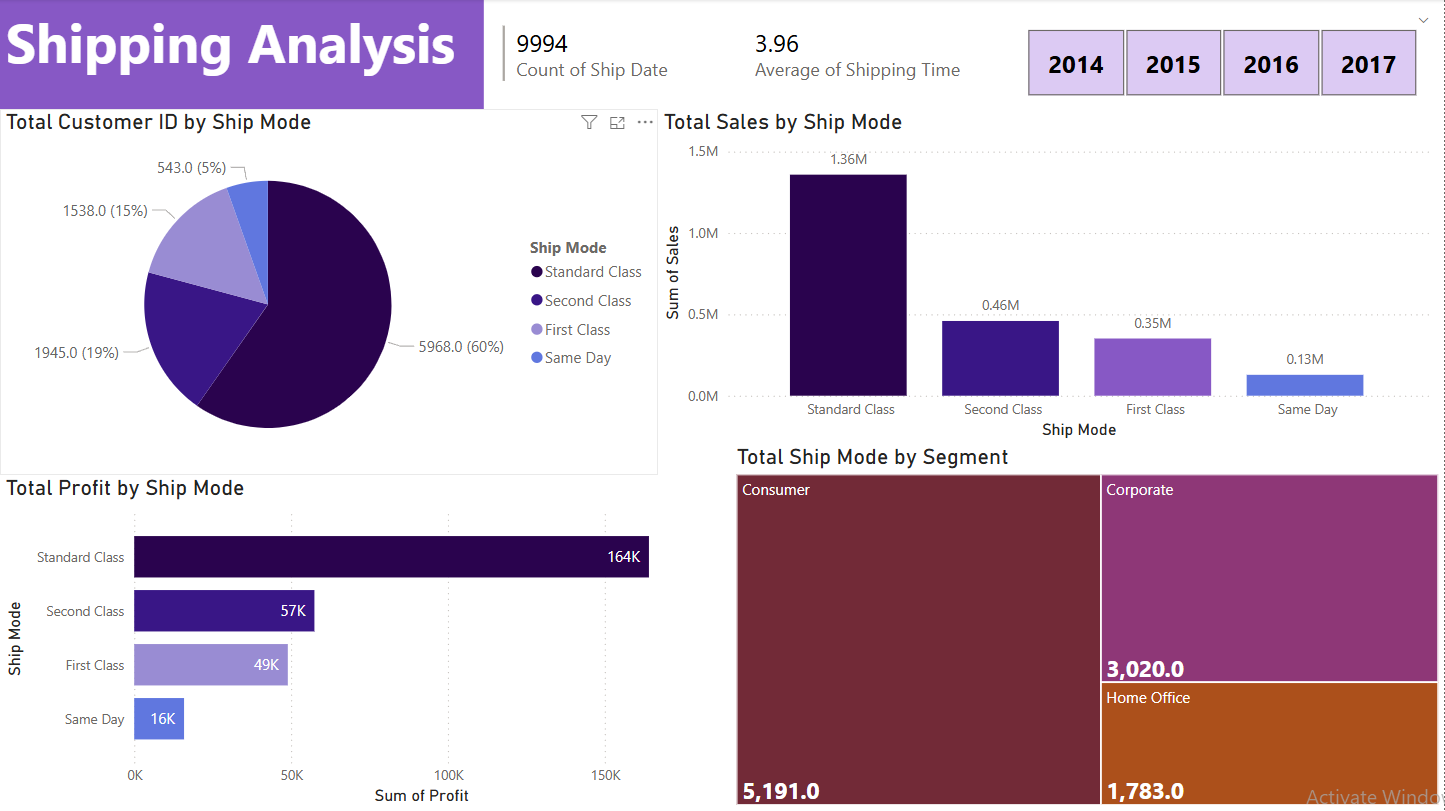

This screenshot's page, from the dashboard's own definition file:
{"tool":"powerbi","page":{"name":"Shipping Analysis","canvas":[1280,720],"ordinal":4},"visuals":[{"type":"textbox","box":[0,0,429.3,97.9],"z":0},{"type":"pieChart","title":"Total Customer ID by Ship Mode","fields":{"Category":["DATASuperstore1.Ship Mode"],"Y":["CountNonNull(DATASuperstore1.Customer ID)"]},"box":[0,97.9,583.1,324.6],"z":1000},{"type":"barChart","title":"Total Profit by Ship Mode","fields":{"Category":["DATASuperstore1.Ship Mode"],"Y":["Sum(DATASuperstore1.Profit)"]},"box":[0,422.5,648,297.2],"z":2000},{"type":"columnChart","title":"Total Sales by Ship Mode","fields":{"Category":["DATASuperstore1.Ship Mode"],"Y":["Sum(DATASuperstore1.Sales)"]},"box":[583.1,97.9,689,297.2],"z":3000},{"type":"multiRowCard","fields":{"Values":["DATASuperstore1.Ship Date","Avg(DATASuperstore1.Shipping Time)"]},"box":[440.7,18.2,445.3,74],"z":4000},{"type":"treemap","title":"Total Ship Mode by Segment","fields":{"Group":["DATASuperstore1.Segment"],"Values":["CountNonNull(DATASuperstore1.Ship Mode)"]},"box":[648,395,632,325],"z":5000},{"type":"slicer","fields":{"Values":["DATASuperstore1.Order Date.Variation.Date Hierarchy.Year"]},"box":[886,12.5,394,79.7],"z":6000}]}

Visuals, with their boxes in screenshot pixels (x1, y1, x2, y2), scaled from the page's 1280x720 canvas onto the 1445x811 screenshot:
textbox: {"left": 0, "top": 0, "right": 485, "bottom": 110}
"Total Customer ID by Ship Mode" pieChart: {"left": 0, "top": 110, "right": 658, "bottom": 476}
"Total Profit by Ship Mode" barChart: {"left": 0, "top": 476, "right": 732, "bottom": 810}
"Total Sales by Ship Mode" columnChart: {"left": 658, "top": 110, "right": 1436, "bottom": 445}
multiRowCard - DATASuperstore1.Ship Date x Avg(DATASuperstore1.Shipping Time): {"left": 498, "top": 21, "right": 1000, "bottom": 104}
"Total Ship Mode by Segment" treemap: {"left": 732, "top": 445, "right": 1444, "bottom": 810}
slicer - DATASuperstore1.Order Date.Variation.Date Hierarchy.Year: {"left": 1000, "top": 14, "right": 1444, "bottom": 104}
